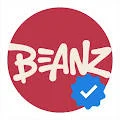fraud: (71, 72, 107, 110)
